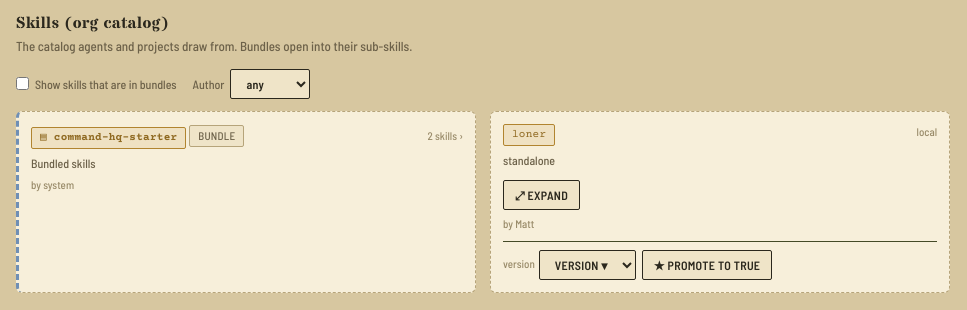
Test: Skills scope controls (U17) › filters by author and shows the author on each card
Expected: the element with test id "skill-card-loner" is shown, x1=490 y1=110 x2=950 y2=292
Expected: the text with test id "skill-author-loner" reads "by Matt", x1=503 y1=217 x2=534 y2=230
Select "Matt" in the dropdown with test id "author-filter" at coordinates (270, 84), box x1=230 y1=68 x2=310 y2=98
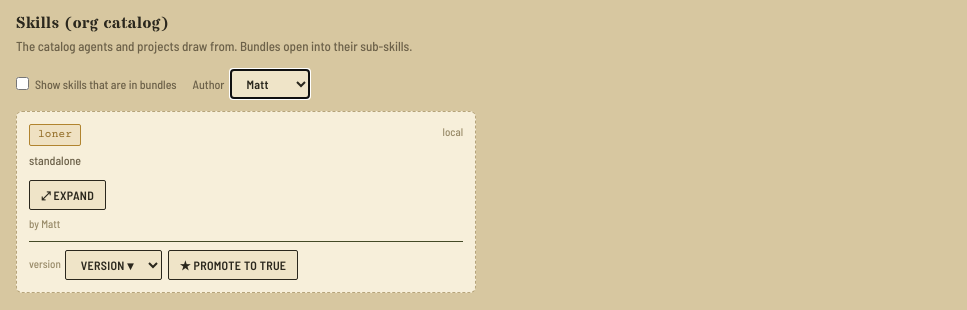
Expected: the element with test id "skill-card-loner" is shown, x1=16 y1=110 x2=476 y2=292
Expected: the link with test id "skill-card-command-hq-starter" is gone
